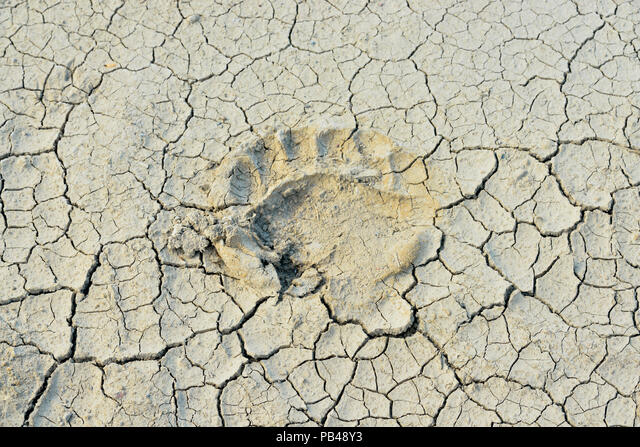bear: (198, 88, 467, 328)
